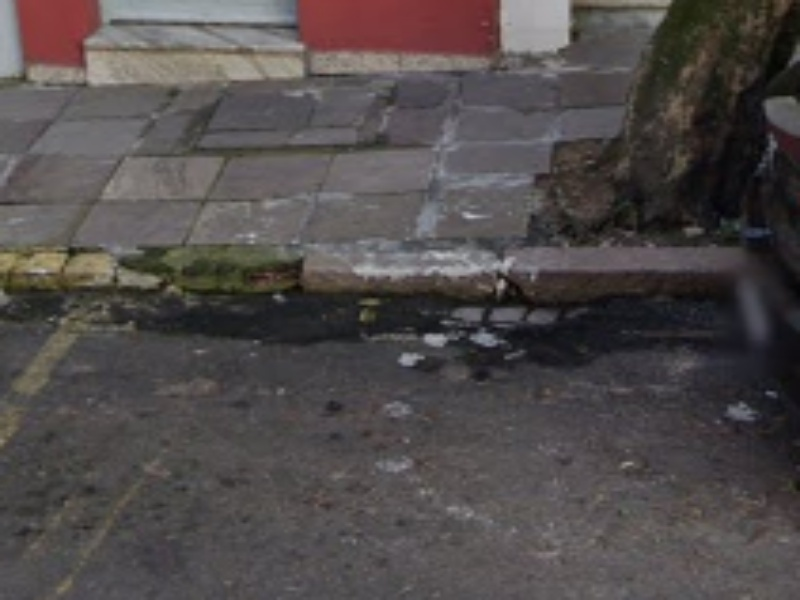v27: (5, 221, 733, 369)
